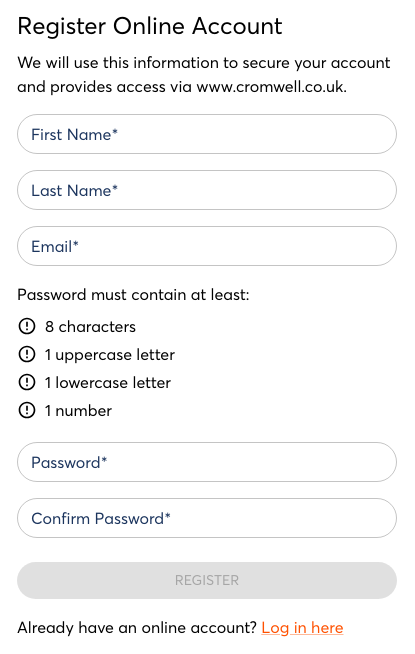
Test case: Register Page › should enable the button when all required fields are provided
Type "john" into the field labelled "First Name *" at (207, 134), box [17,114,397,154]
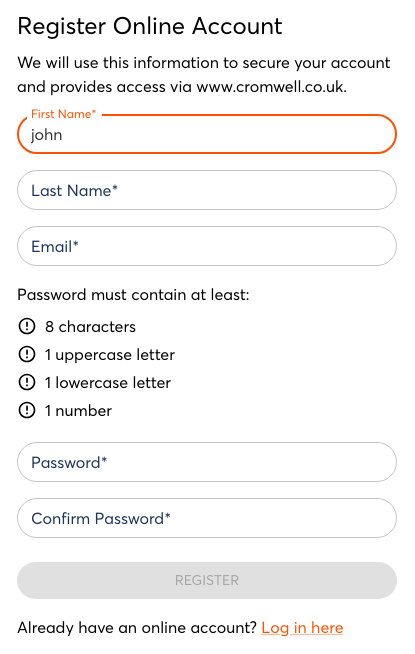
Type "doe" into the field labelled "Last Name *" at (207, 190), box [17,170,397,210]
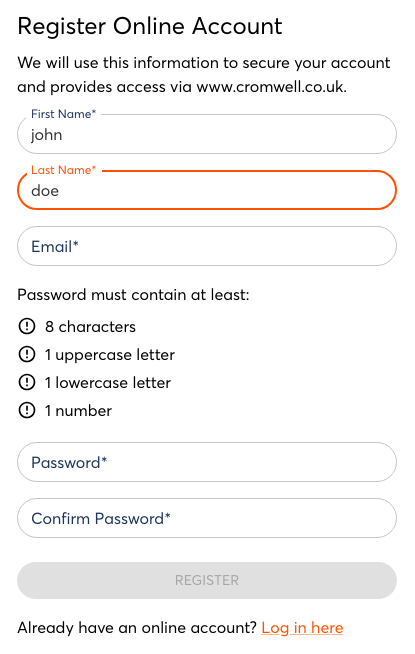
Type "john@example.com" into the field labelled "Email *" at (207, 246), box [17,226,397,266]
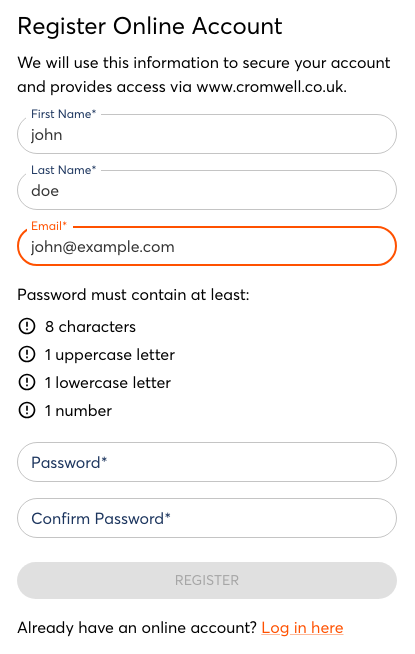
Type "Password123!" into the password field labelled "Password *" at (207, 462), box [17,442,397,482]
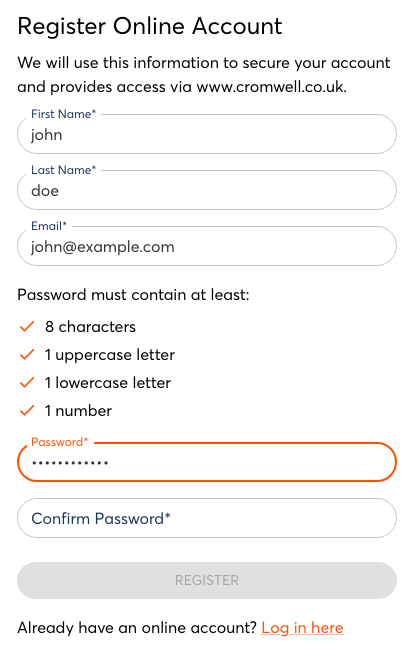
Type "Password123!" into the password field labelled "Confirm Password *" at (207, 518), box [17,498,397,538]
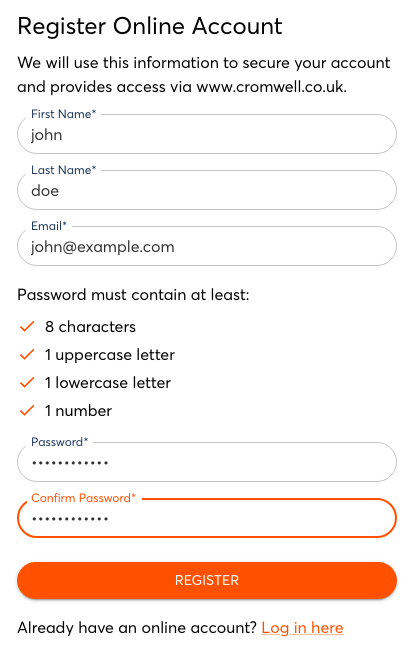
Now the button "REGISTER" is enabled, box [17,562,397,598]
